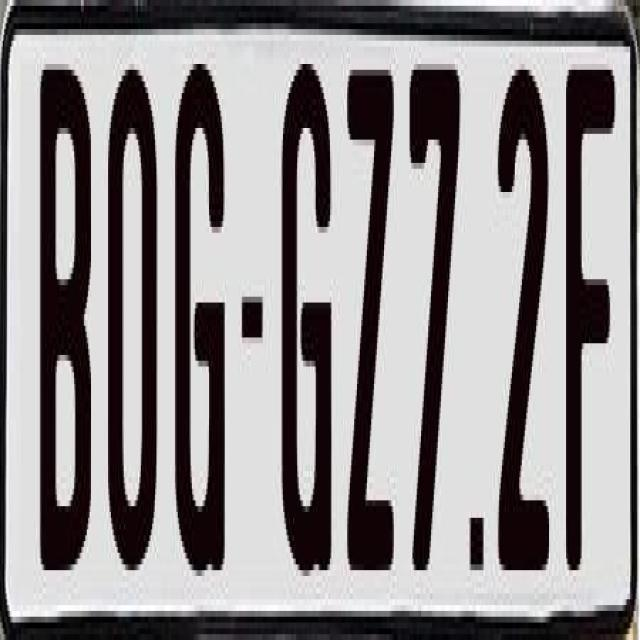0: (104, 70, 161, 582)
2: (495, 58, 549, 559)
7: (407, 52, 458, 553)
B: (40, 52, 100, 588)
F: (562, 52, 618, 576)
G: (170, 58, 220, 576), (278, 64, 328, 576)
Z: (347, 70, 397, 588)
